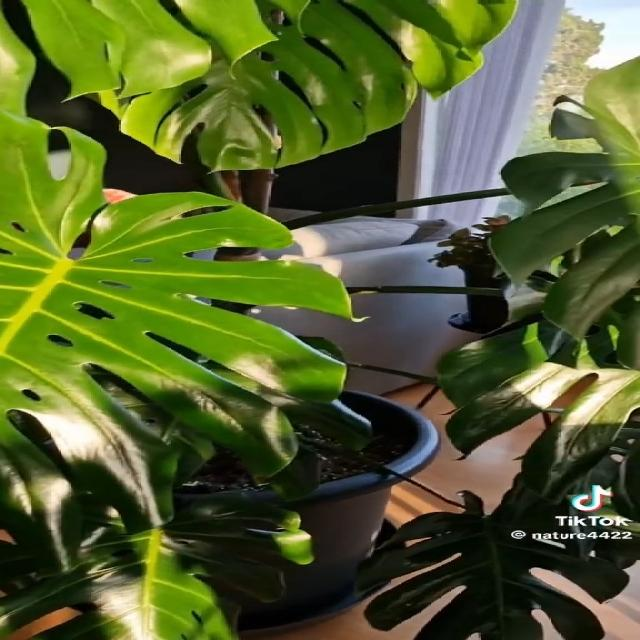roslina_zdrowa: (0, 0, 640, 640), (20, 0, 522, 174)
